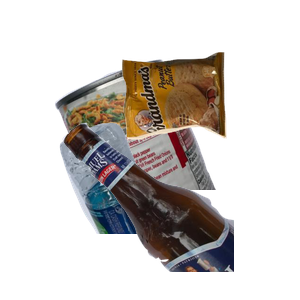glass: (60, 120, 300, 300)
metal: (52, 57, 260, 237)
plastic: (57, 120, 284, 300)
trash: (120, 50, 300, 182)
